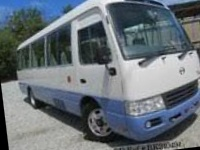bus: (10, 0, 200, 150)
